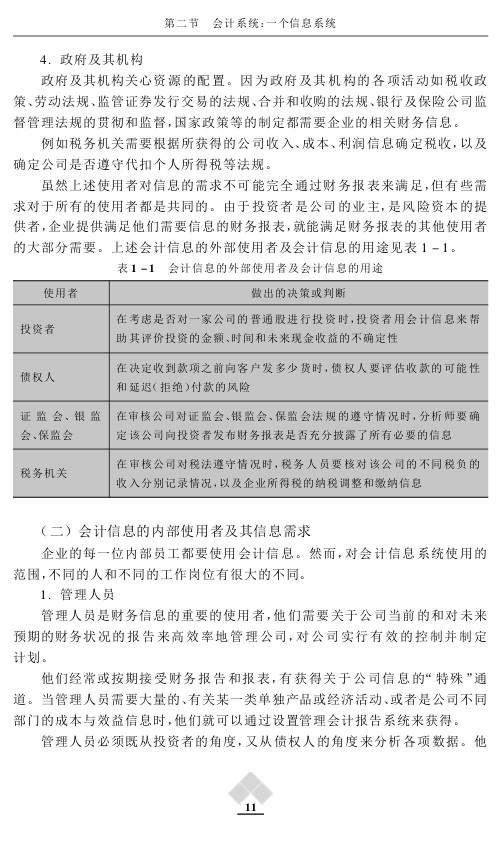table: (13, 280, 487, 497)
